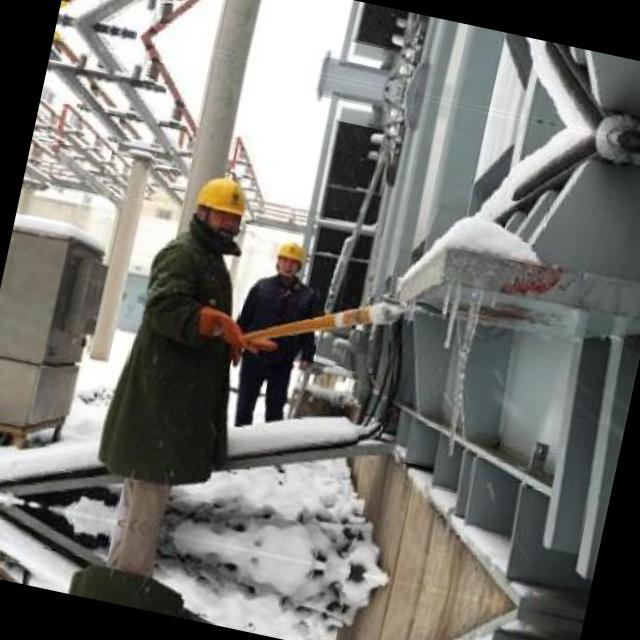helmet: (184, 167, 254, 241), (268, 232, 312, 282)
